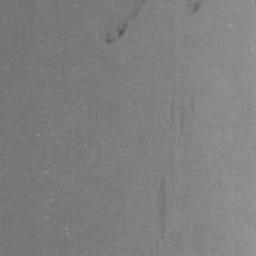Water spot: (104, 0, 146, 45), (169, 91, 195, 143), (155, 175, 169, 239), (187, 0, 205, 15)
